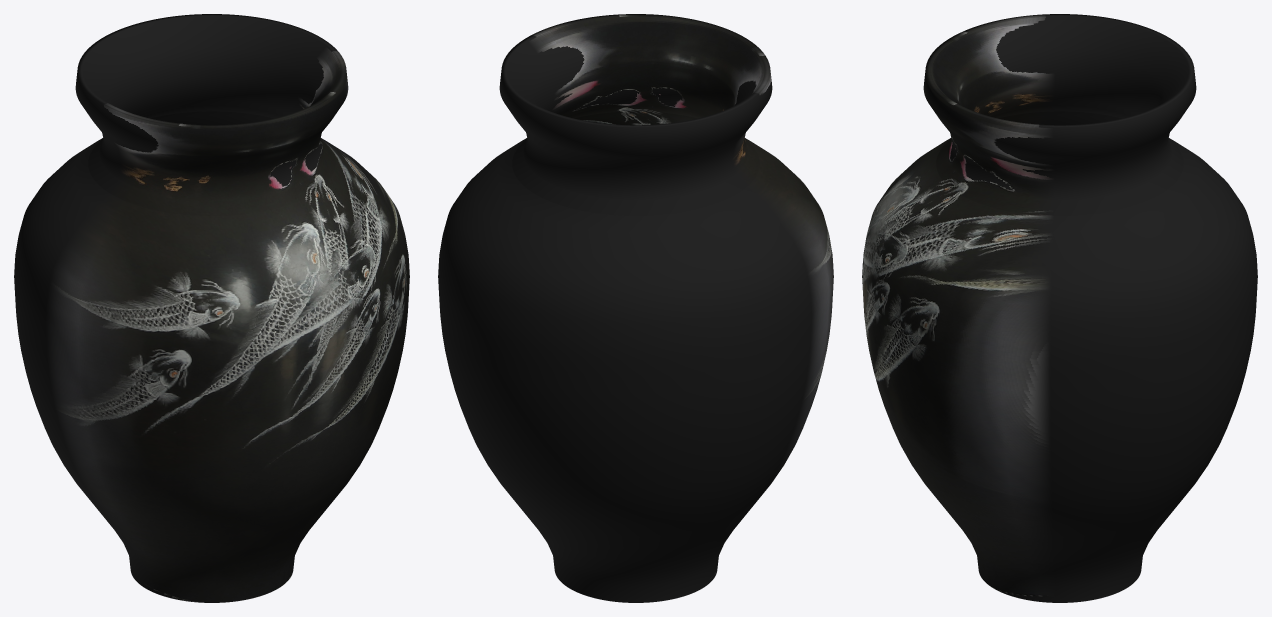
Rendered from ninefish-reconstruction.glb.
3 views of the same model, side by side, from view 1: azimuth 30°, elevation 25°; view 2: azimuth 150°, elevation 25°; view 3: azimuth 270°, elevation 25° (orthographic).
Visible parts, largest first — view 1: 雄州九鱼瓶·照片参考重建; view 2: 雄州九鱼瓶·照片参考重建; view 3: 雄州九鱼瓶·照片参考重建.
Boxes of the visible parts, x1=… form: 雄州九鱼瓶·照片参考重建: x1=14, y1=14, x2=409, y2=602; 雄州九鱼瓶·照片参考重建: x1=438, y1=14, x2=833, y2=602; 雄州九鱼瓶·照片参考重建: x1=862, y1=14, x2=1257, y2=602.
Size of the model in its own units: 2.09 by 2.9 by 2.09.
1 material, 1 textured.
